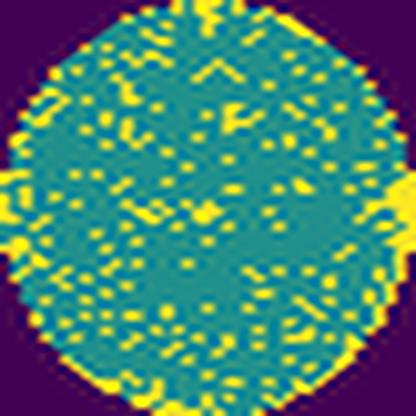Edge-Loc: (347, 166, 415, 333)
